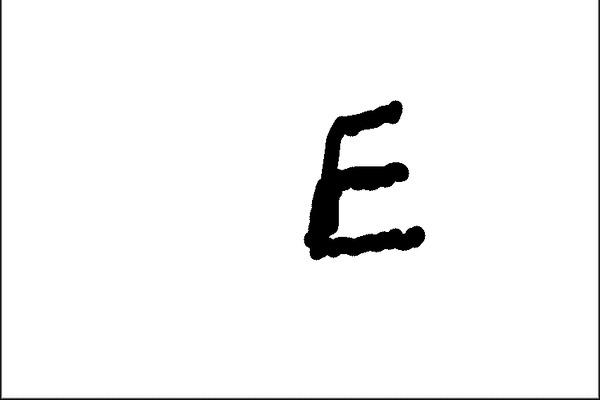E: (298, 94, 429, 263)
